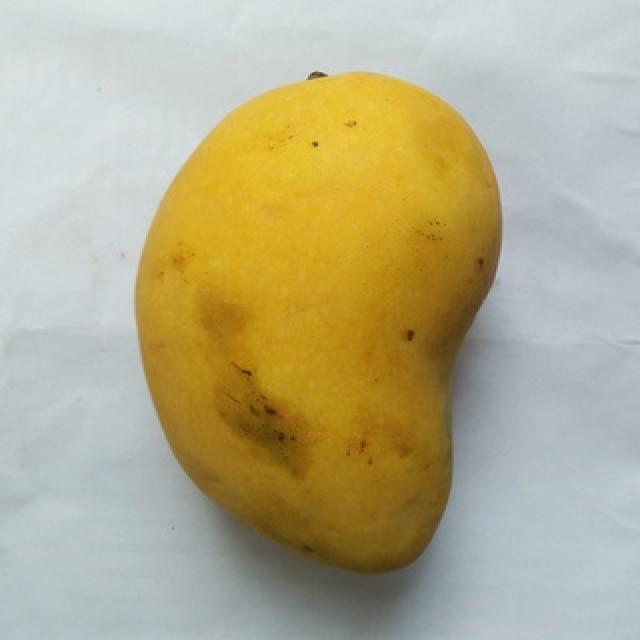Mango: (136, 75, 500, 570)
